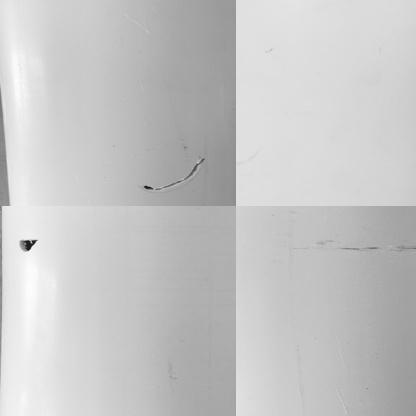fengxi: (140, 155, 208, 191)
kongdong: (14, 236, 42, 253)
